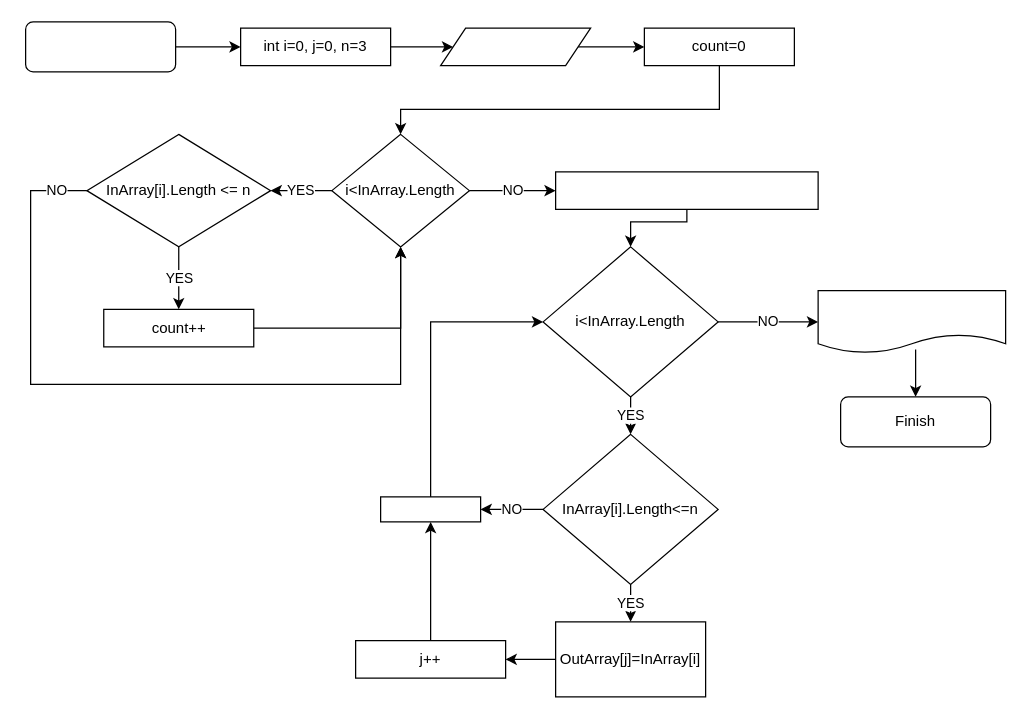
This 1028x719 diagram has some shape labels left out. The shapes that lost their labels are listed below. From the top down, each one's centre as x and y in pixels, then its label:
At point 100,46: "Start".
At point 515,46: "string [] InArray,".
At point 686,190: "string [ ] OutArray = new [count ] ,".
At point 911,321: "InArray [] - >OutArray[],".
At point 430,509: "i++".
